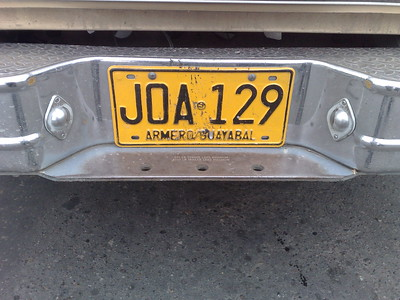placa_carro: (102, 60, 300, 158)
